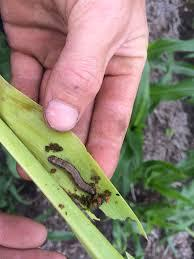fallarmy_worm: (45, 154, 99, 200)
